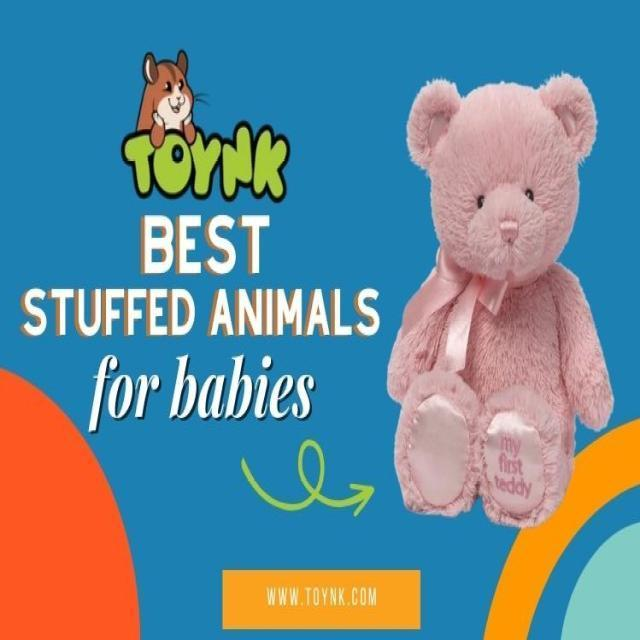soft-toy: (389, 75, 612, 527)
